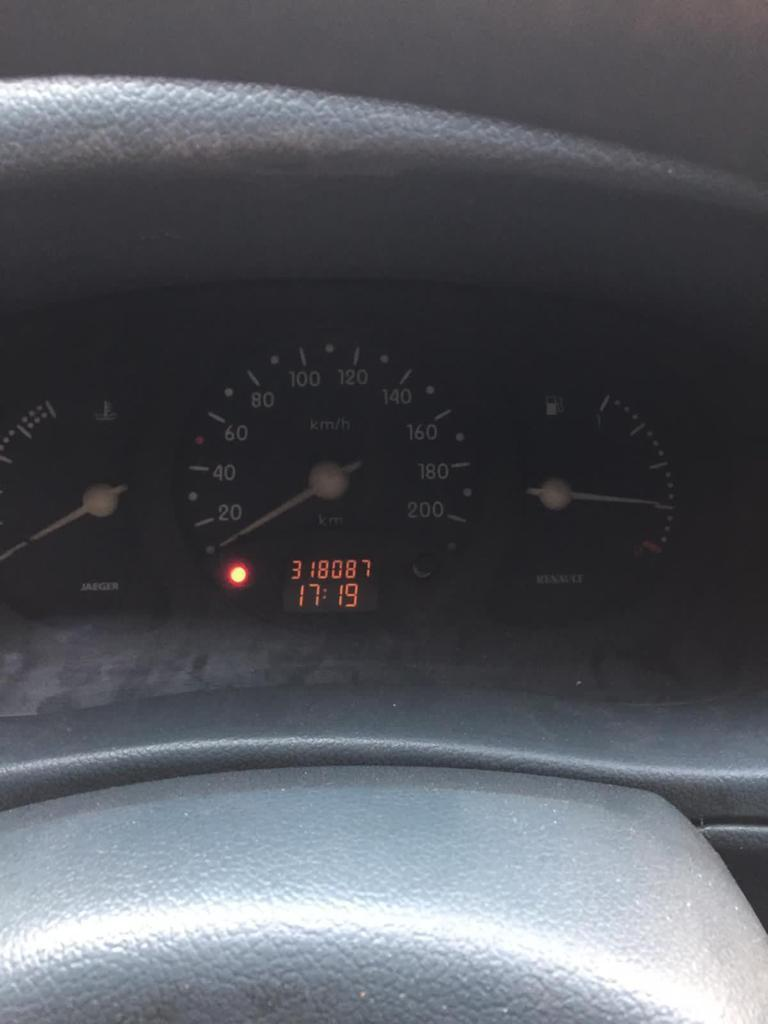0: (331, 558, 342, 580)
1: (298, 582, 304, 607), (337, 583, 343, 606), (310, 559, 315, 579)
3: (291, 558, 302, 580)
7: (308, 582, 319, 608), (361, 557, 371, 577)
8: (318, 558, 328, 580), (346, 558, 356, 579)
9: (345, 581, 358, 608)
X: (321, 585, 329, 601)
odometer: (281, 551, 378, 610)
